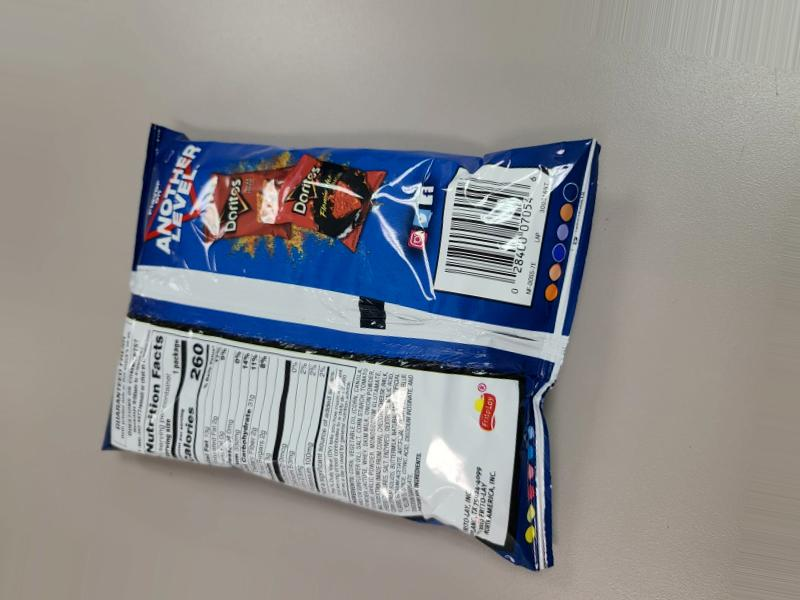doritos: (180, 145, 570, 600)
